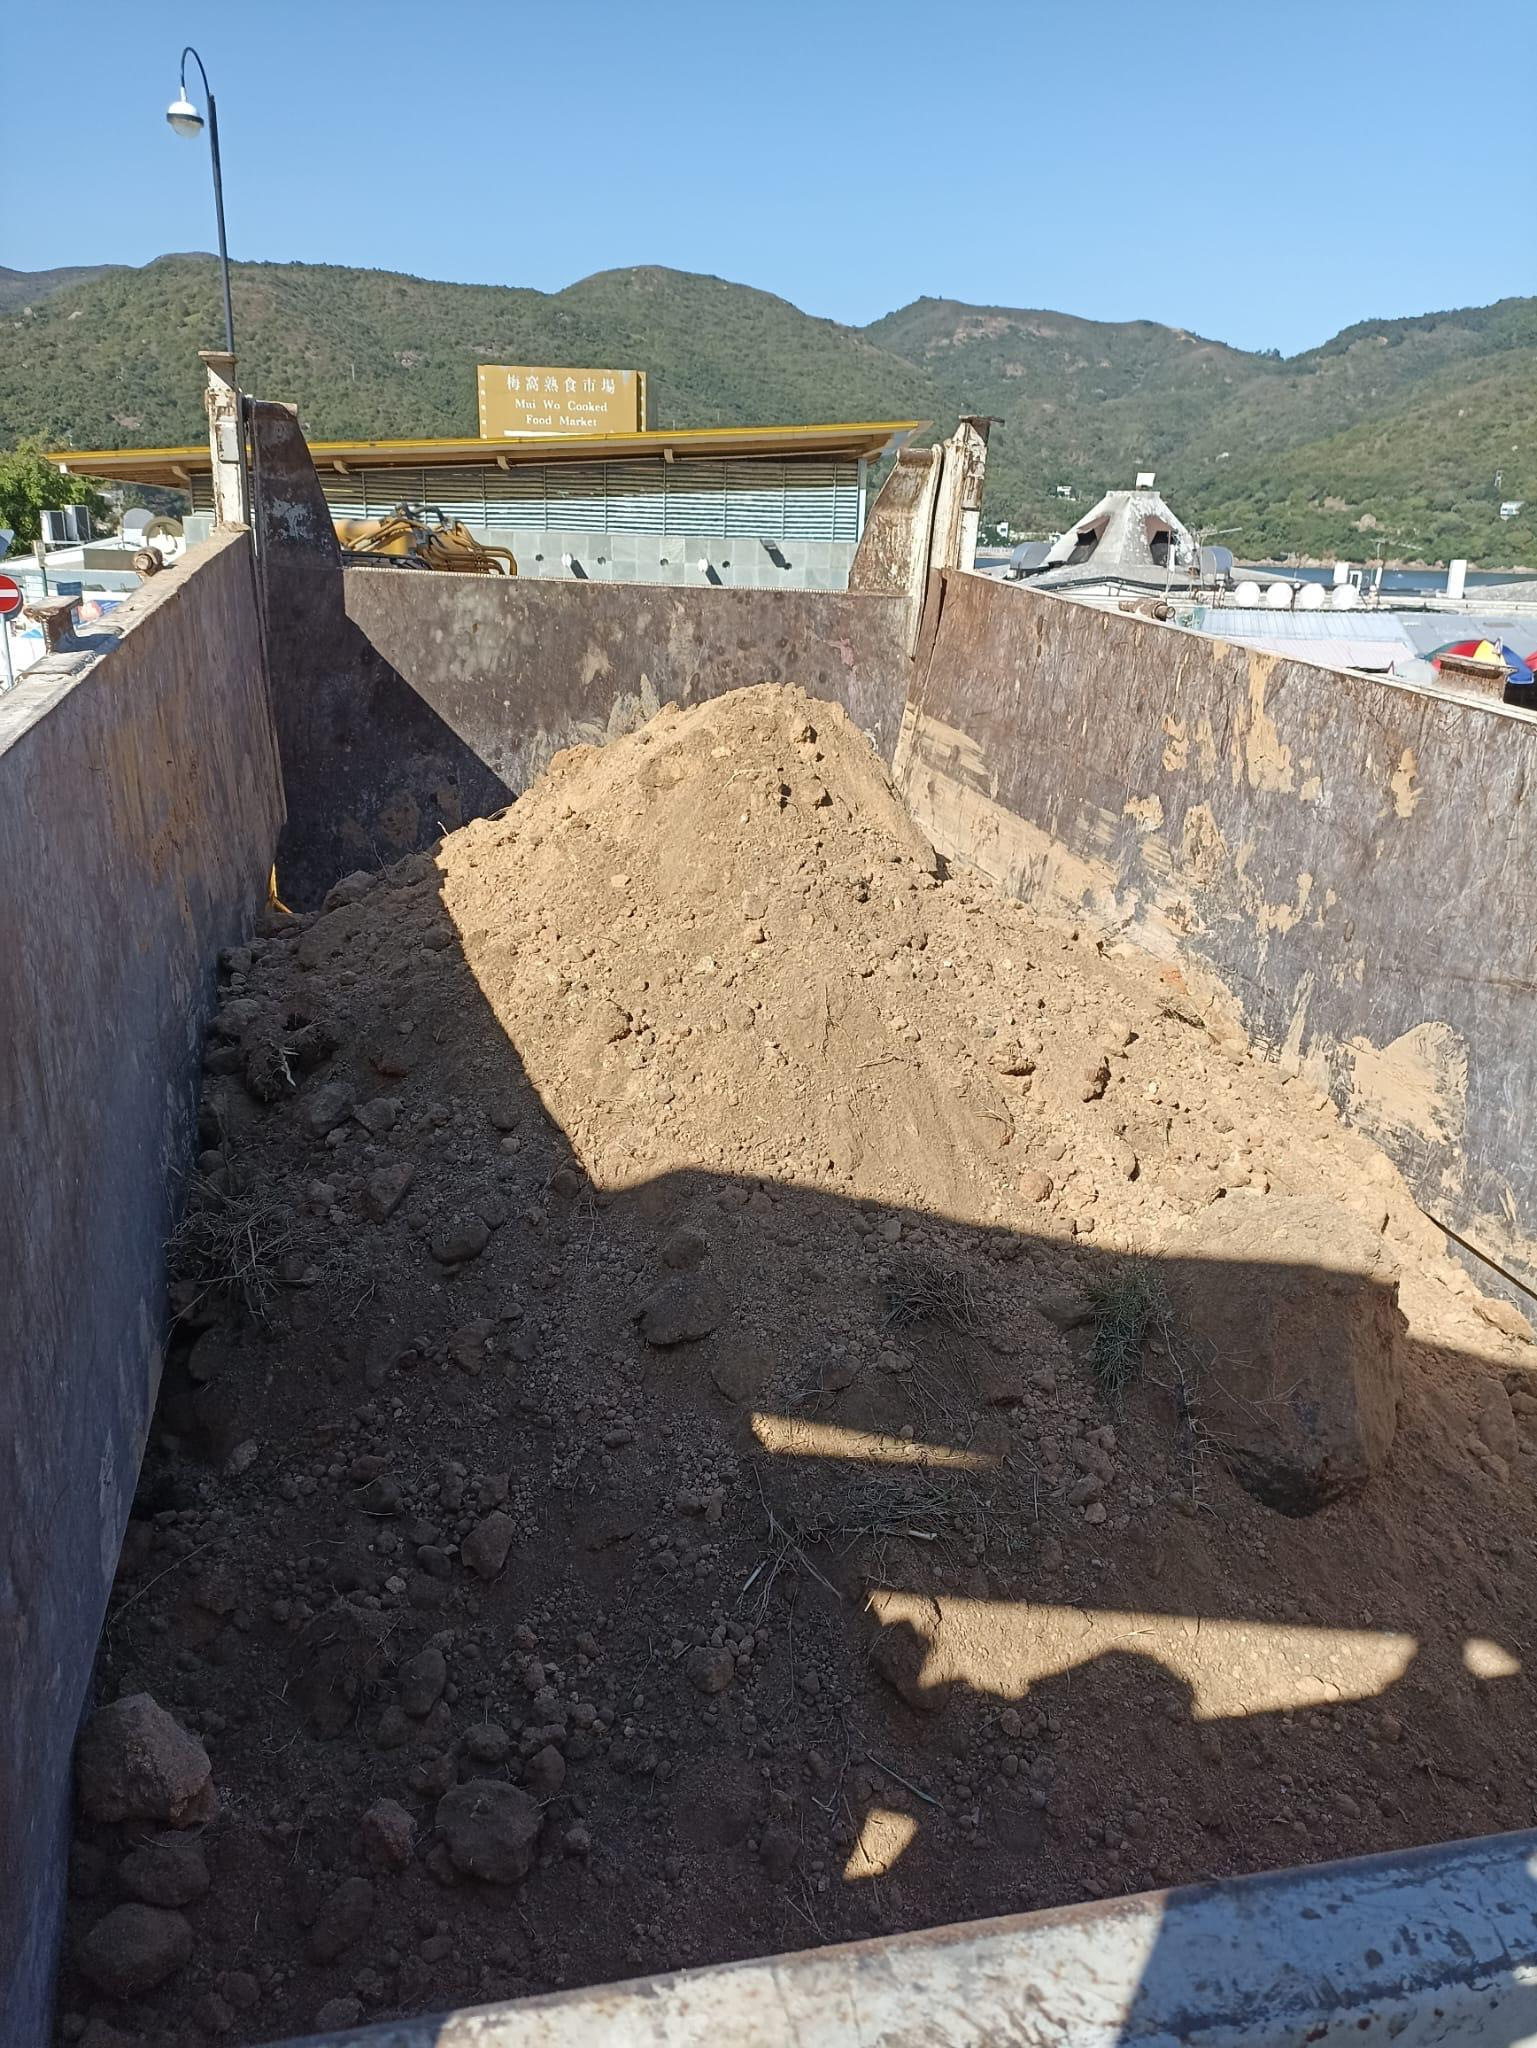dirt: (57, 676, 1534, 2043)
stone: (430, 676, 1411, 1508), (75, 1690, 213, 1825), (433, 1776, 543, 1884), (76, 1900, 194, 1995), (113, 1834, 210, 1904), (841, 1806, 917, 1880), (358, 1794, 417, 1871), (459, 1507, 515, 1577), (397, 1645, 447, 1715), (426, 1209, 489, 1262), (686, 1644, 734, 1693)
